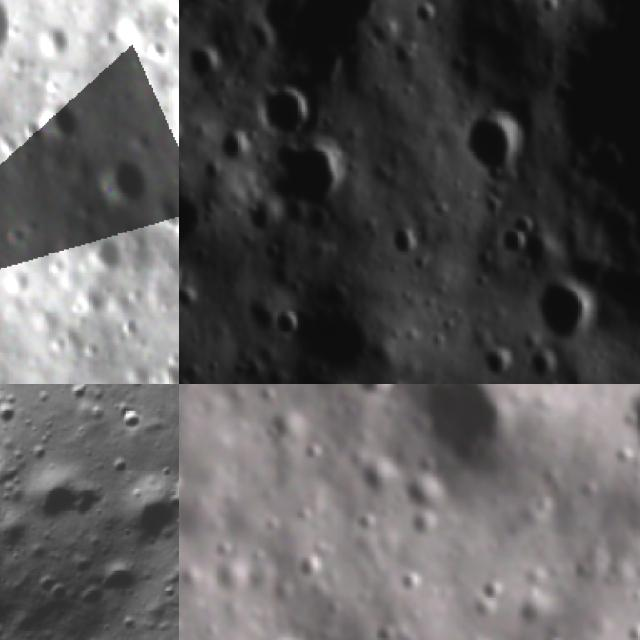crater: (265, 0, 396, 94), (290, 280, 394, 377), (415, 384, 521, 474), (9, 452, 105, 547), (260, 140, 350, 228), (463, 100, 538, 189), (102, 475, 179, 561), (522, 274, 602, 340), (251, 86, 322, 145), (91, 151, 146, 209), (35, 93, 88, 137), (79, 223, 130, 267), (181, 40, 226, 89), (476, 339, 513, 384), (205, 127, 244, 168), (405, 500, 442, 540), (0, 0, 23, 58), (389, 222, 424, 259), (413, 0, 446, 39), (496, 224, 531, 259), (267, 308, 299, 342), (351, 384, 395, 407), (294, 549, 330, 577), (252, 384, 283, 409), (349, 504, 377, 530), (480, 576, 504, 605), (179, 286, 204, 311), (203, 0, 240, 15), (294, 502, 318, 524), (400, 568, 420, 594), (218, 536, 238, 562), (626, 617, 640, 640), (538, 632, 571, 640)
